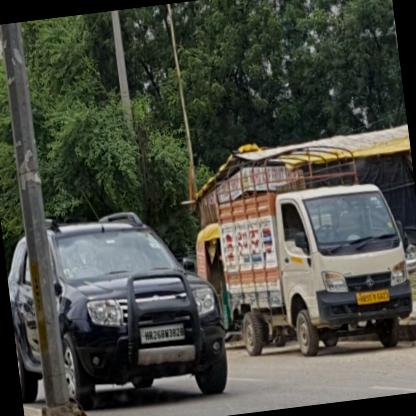car: (0, 198, 233, 415)
truck: (209, 135, 415, 365)
